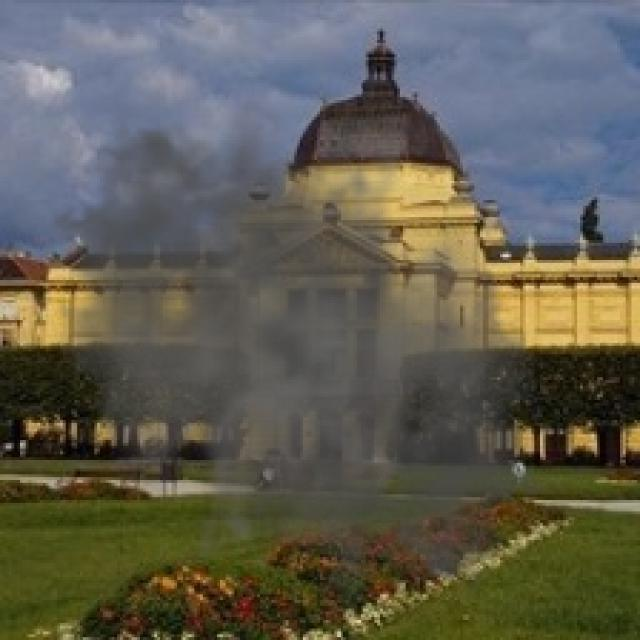Smoke: (14, 86, 583, 623)
